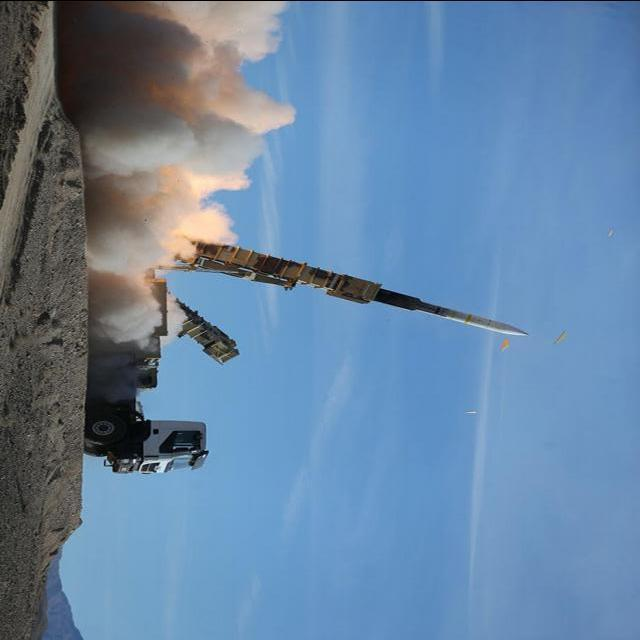Missile: (352, 286, 537, 340)
